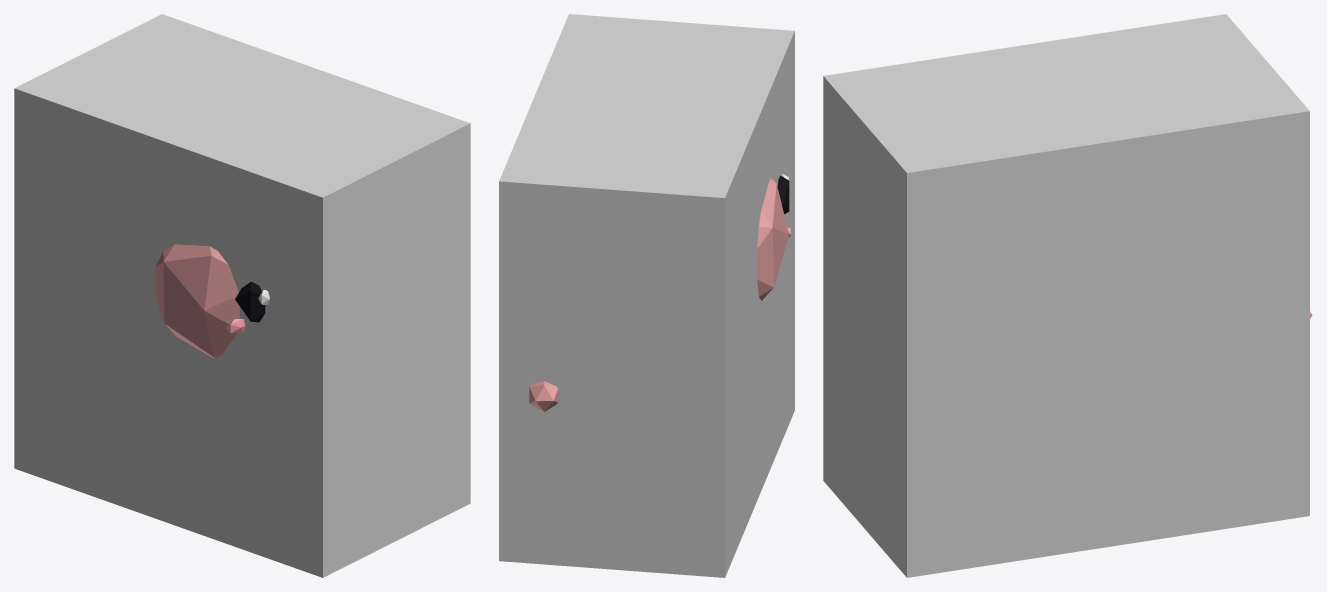
Rendered from plains_pet1.fbx.
The picture shows the model from 3 angles, left to right: view 1: azimuth 30°, elevation 25°; view 2: azimuth 150°, elevation 25°; view 3: azimuth 270°, elevation 25°; orthographic projection. The views are drawn at different scales.
Parts seen in each view (by area): view 1: Root__0.00_0.47_0.03__0.52_0.95_0.91, Head__Body__0.00_0.42_-0.08; view 2: Root__0.00_0.47_0.03__0.52_0.95_0.91, Head__Body__0.00_0.42_-0.08, Tail__Body__0.00_0.34_0.34; view 3: Root__0.00_0.47_0.03__0.52_0.95_0.91.
Part boxes in pixels (<box>): Root__0.00_0.47_0.03__0.52_0.95_0.91: <box>14,14,470,577</box>; Head__Body__0.00_0.42_-0.08: <box>155,244,269,358</box>; Root__0.00_0.47_0.03__0.52_0.95_0.91: <box>499,14,794,577</box>; Head__Body__0.00_0.42_-0.08: <box>757,173,790,300</box>; Tail__Body__0.00_0.34_0.34: <box>529,381,558,411</box>; Root__0.00_0.47_0.03__0.52_0.95_0.91: <box>823,14,1309,577</box>.
Bounding box in the file's own units: 22.42 × 26.78 × 29.13.
Materials: 1 (1 with a texture image).
